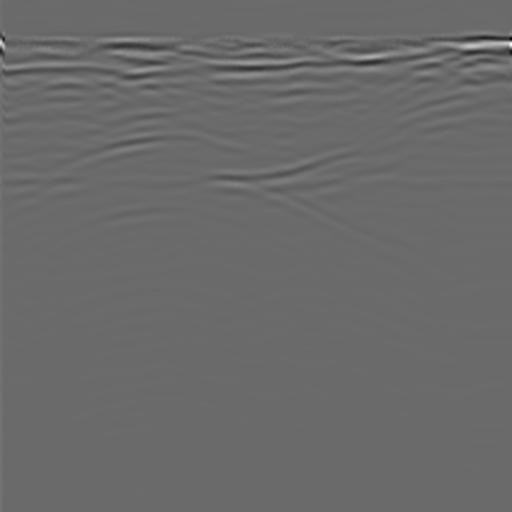hyperbola: (39, 121, 305, 249)
